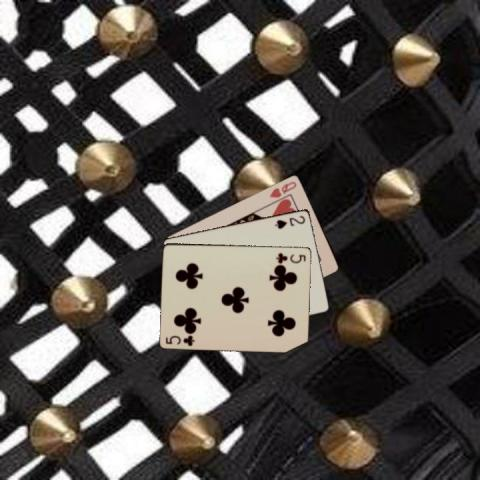2s: (272, 213, 307, 230)
5c: (163, 332, 196, 347), (273, 250, 307, 264)
Qh: (267, 178, 298, 199)
